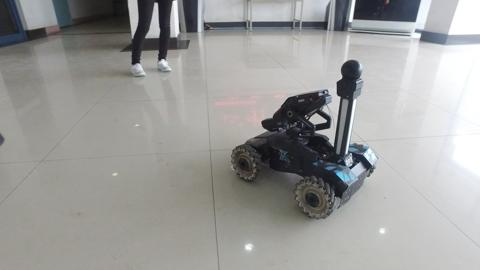chariot: (230, 58, 379, 220)
